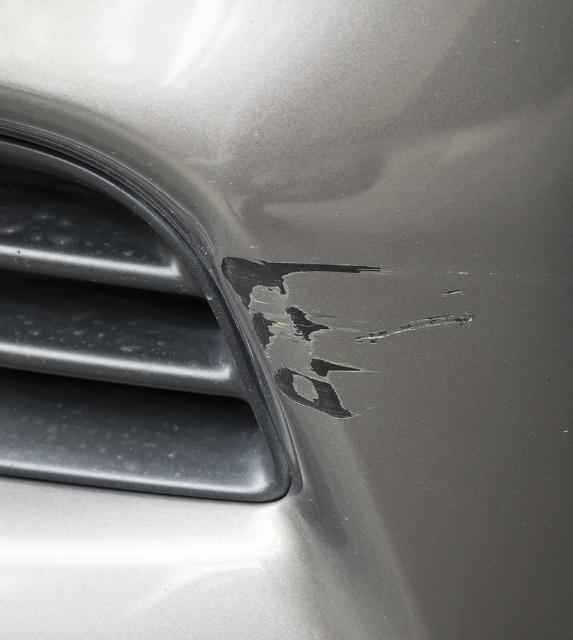scratch: (219, 251, 499, 423)
